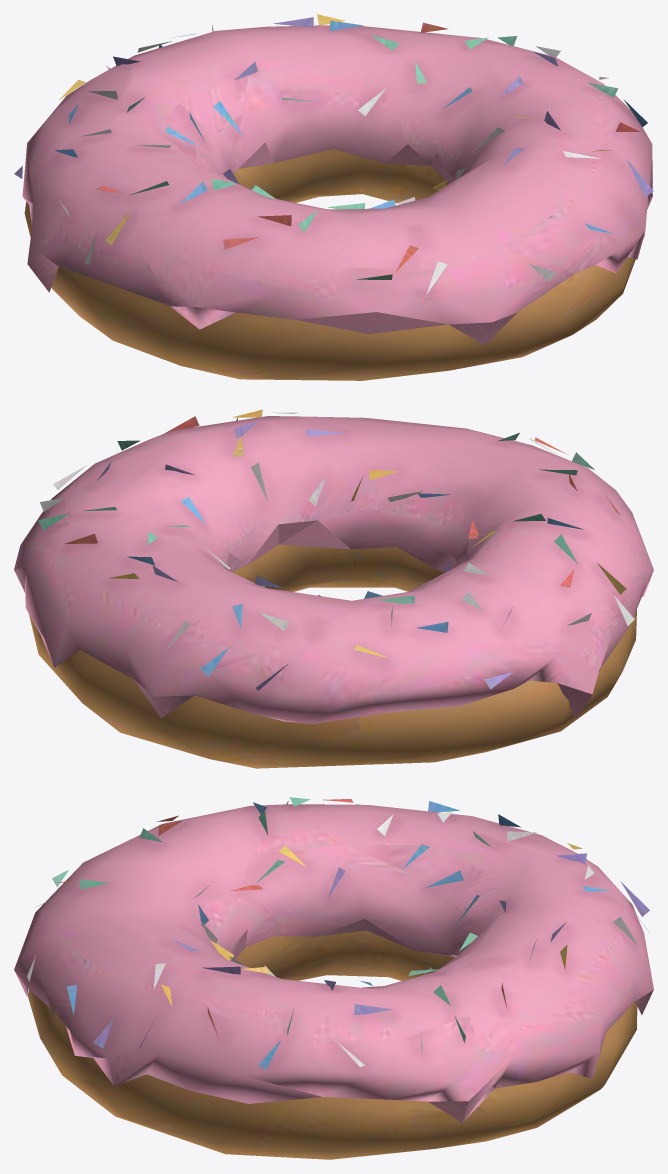
The model's file is food-donut.glb.
The picture shows the model from 3 angles, top to bottom: view 1: azimuth 30°, elevation 25°; view 2: azimuth 150°, elevation 25°; view 3: azimuth 270°, elevation 25°; orthographic projection.
Visible parts, largest first — view 1: donut_body; view 2: donut_body; view 3: donut_body.
Boxes of the visible parts, <box> form: donut_body: <box>14,14,653,380</box>; donut_body: <box>14,409,653,768</box>; donut_body: <box>14,797,653,1159</box>.
Size of the model in its own units: 3.6 by 1.09 by 3.59.
1 material, 1 textured.
